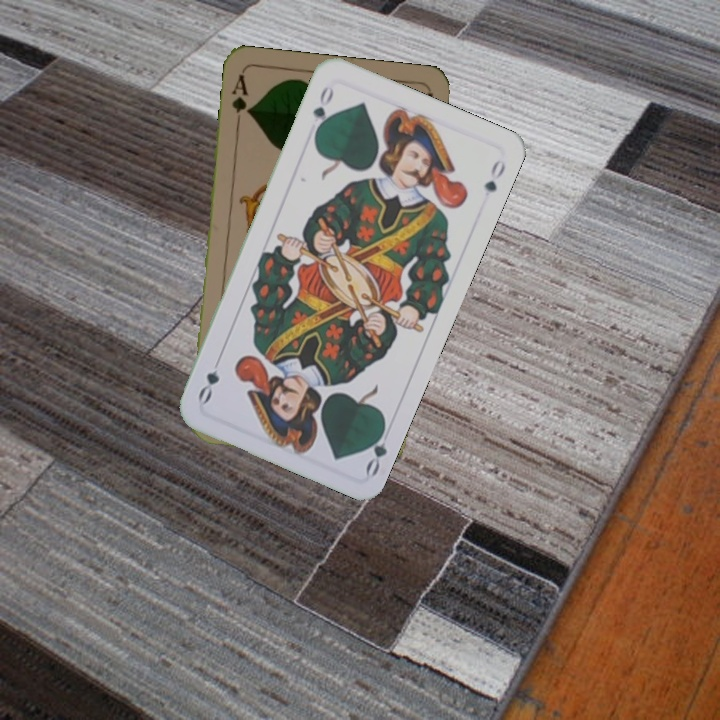GA: (227, 70, 253, 129)
GO: (361, 419, 390, 479), (308, 81, 337, 138)
